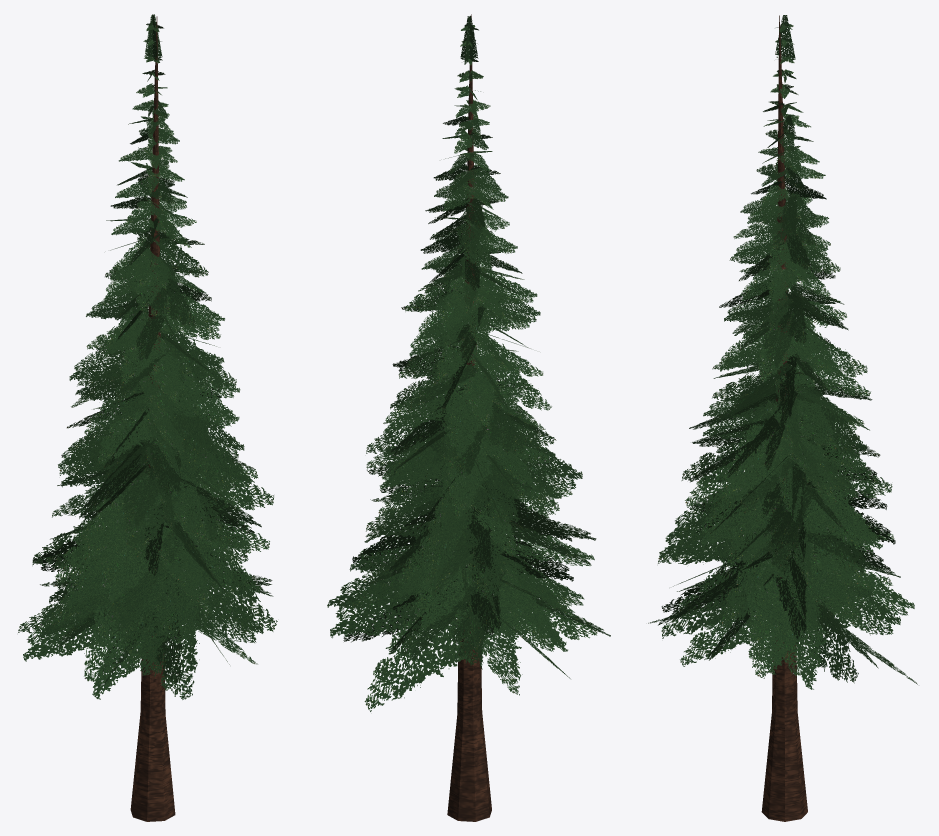
The model's file is SM_spruce_01.fbx.
3 renders of one model, left to right at view 1: azimuth 30°, elevation 25°; view 2: azimuth 150°, elevation 25°; view 3: azimuth 270°, elevation 25°, orthographic.
Visible parts, largest first — view 1: SM_spruce_01; view 2: SM_spruce_01; view 3: SM_spruce_01.
Part boxes in pixels (x1,y1,x2,y2): SM_spruce_01: [18, 14, 277, 821]; SM_spruce_01: [327, 14, 610, 821]; SM_spruce_01: [648, 15, 917, 821].
Size of the model in its own units: 9.24 by 28 by 9.01.
